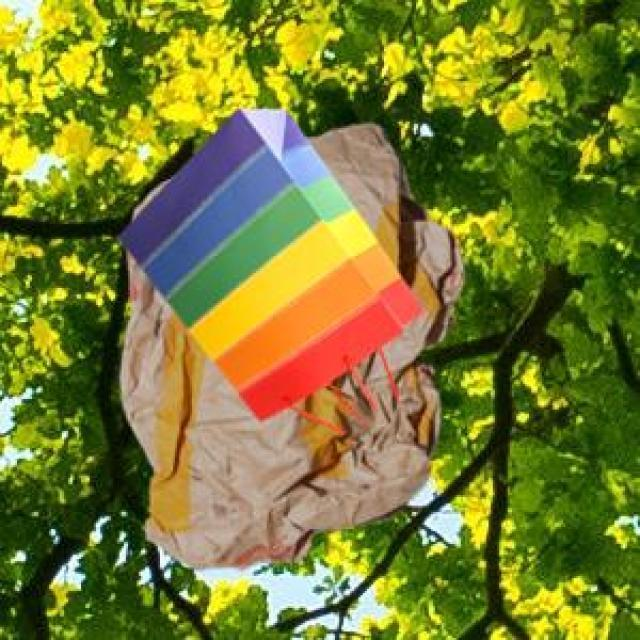paper: (115, 120, 461, 565), (113, 105, 420, 416)
